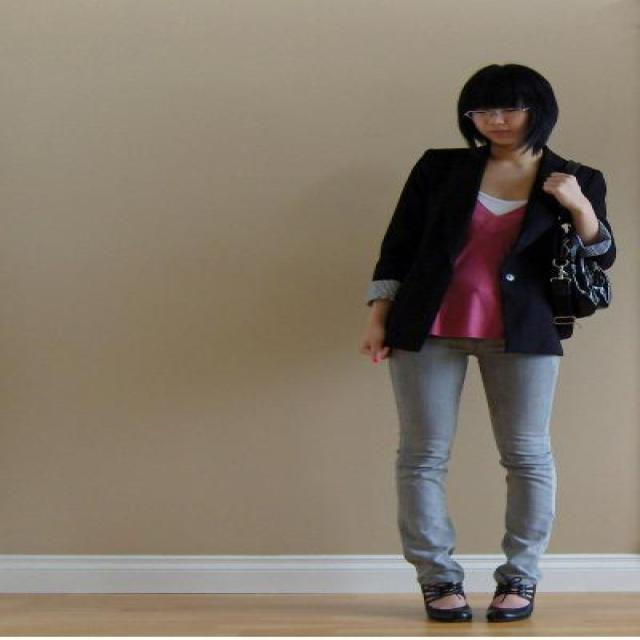bag: (500, 218, 614, 322)
jacket: (365, 145, 605, 357)
pants: (382, 320, 565, 589)
shirt: (429, 191, 523, 336)
shoe: (422, 566, 538, 628)
